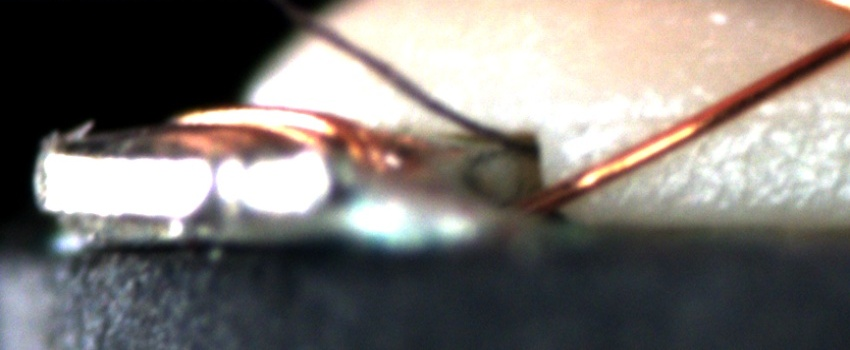DL: (568, 85, 850, 149)
TE: (172, 96, 422, 175)
